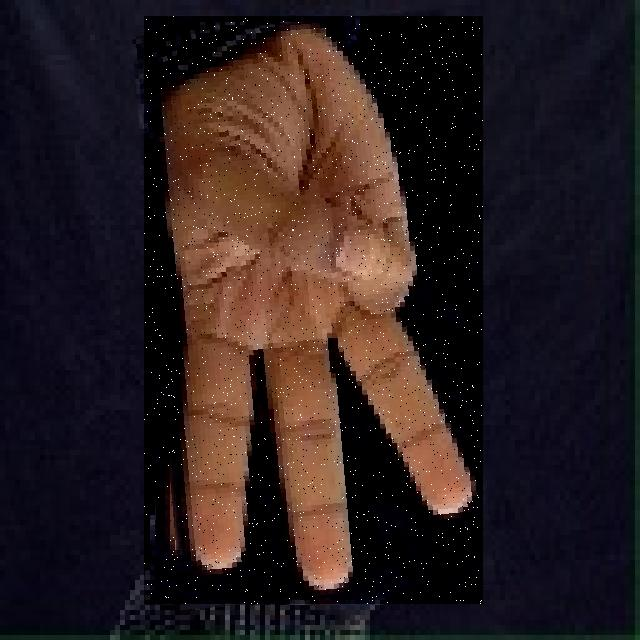Please: (144, 16, 483, 604)
